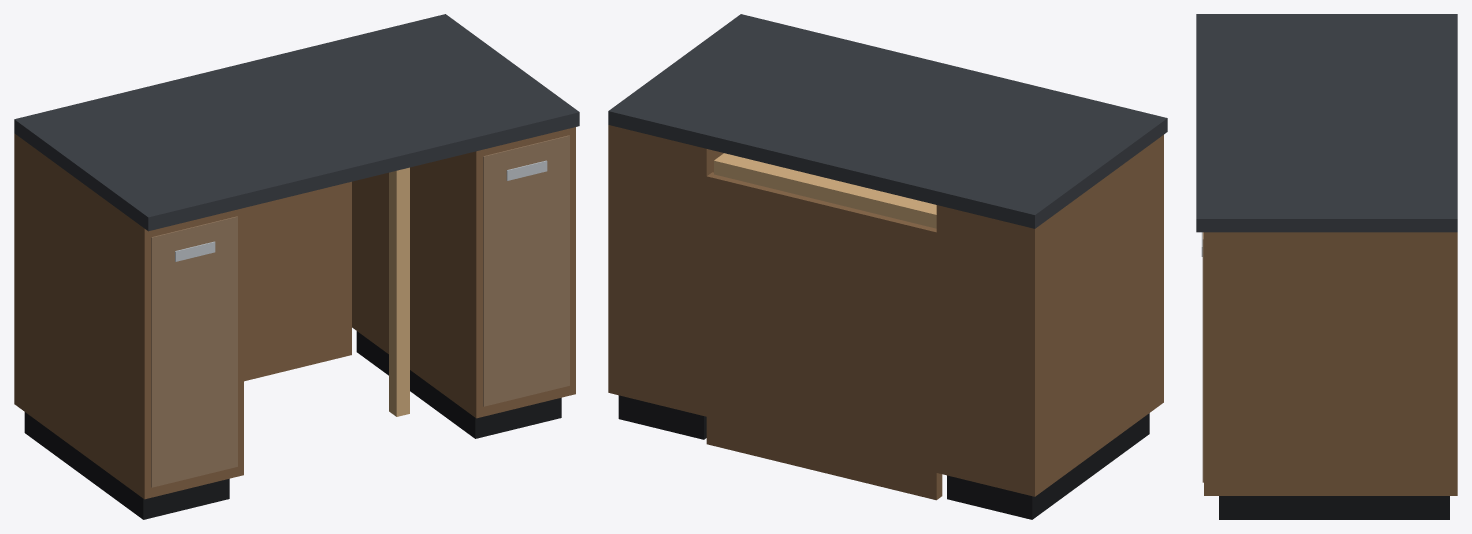
File: under_counter_table.glb
The picture shows the model from 3 angles, left to right: view 1: azimuth 30°, elevation 25°; view 2: azimuth 150°, elevation 25°; view 3: azimuth 270°, elevation 25°; orthographic projection. The views are drawn at different scales.
Parts seen in each view (by area): view 1: under_counter_table_Body, under_counter_table_Board; view 2: under_counter_table_Body, under_counter_table_Board; view 3: under_counter_table_Body.
Part boxes in pixels (x1=…): under_counter_table_Body: x1=14, y1=14, x2=579, y2=519; under_counter_table_Board: x1=389, y1=167, x2=409, y2=416; under_counter_table_Body: x1=608, y1=14, x2=1167, y2=519; under_counter_table_Board: x1=714, y1=153, x2=936, y2=228; under_counter_table_Body: x1=1196, y1=14, x2=1457, y2=519.
Bounding box in the file's own units: 1.3 × 0.9 × 0.7.
